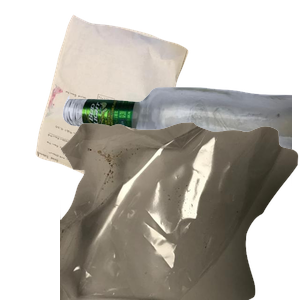glass: (60, 84, 300, 260)
paper: (33, 12, 214, 192)
plastic: (98, 176, 266, 300)
trash: (60, 120, 300, 300)
